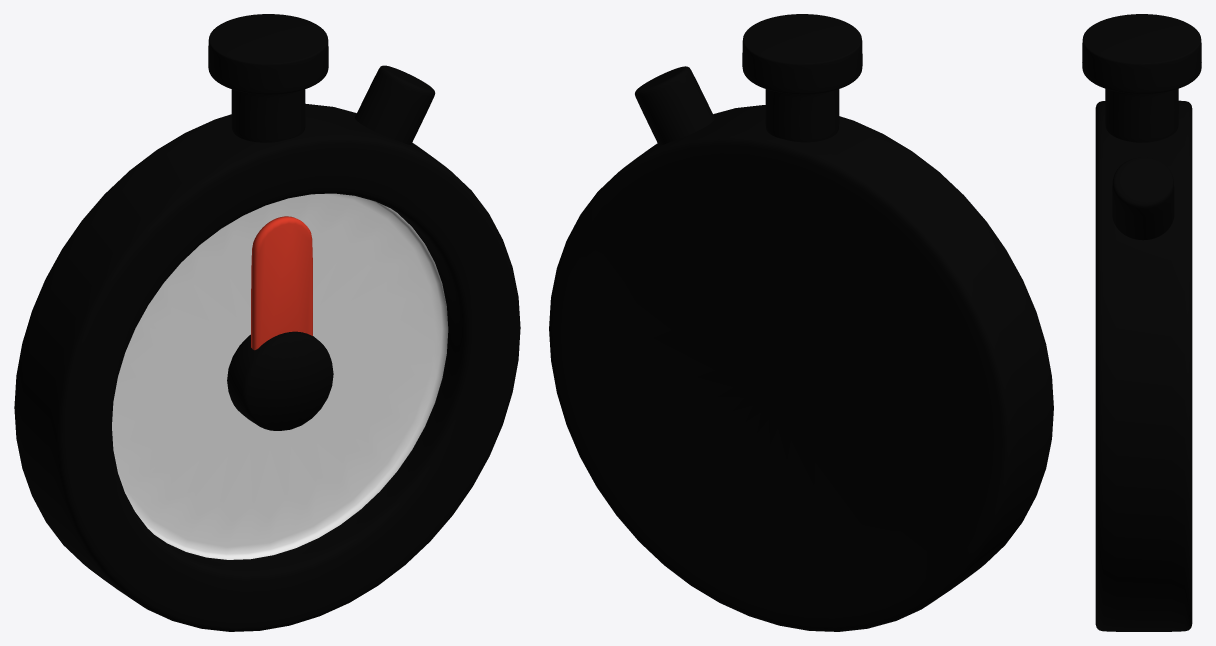
The model's file is Stopwatch_v01.glb.
The picture shows the model from 3 angles, left to right: view 1: azimuth 30°, elevation 25°; view 2: azimuth 150°, elevation 25°; view 3: azimuth 270°, elevation 25°; orthographic projection.
Visible parts, largest first — view 1: Stopwatch; view 2: Stopwatch; view 3: Stopwatch.
Part boxes in pixels (x1=…): Stopwatch: x1=14, y1=14, x2=520, y2=631; Stopwatch: x1=549, y1=14, x2=1053, y2=631; Stopwatch: x1=1082, y1=14, x2=1201, y2=631.
Size of the model in its own units: 0.6842 by 0.8091 by 0.1538.
